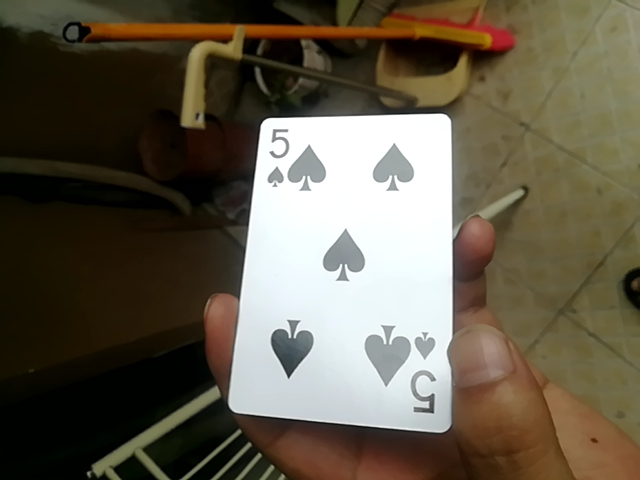ht 5: (221, 109, 459, 440)
